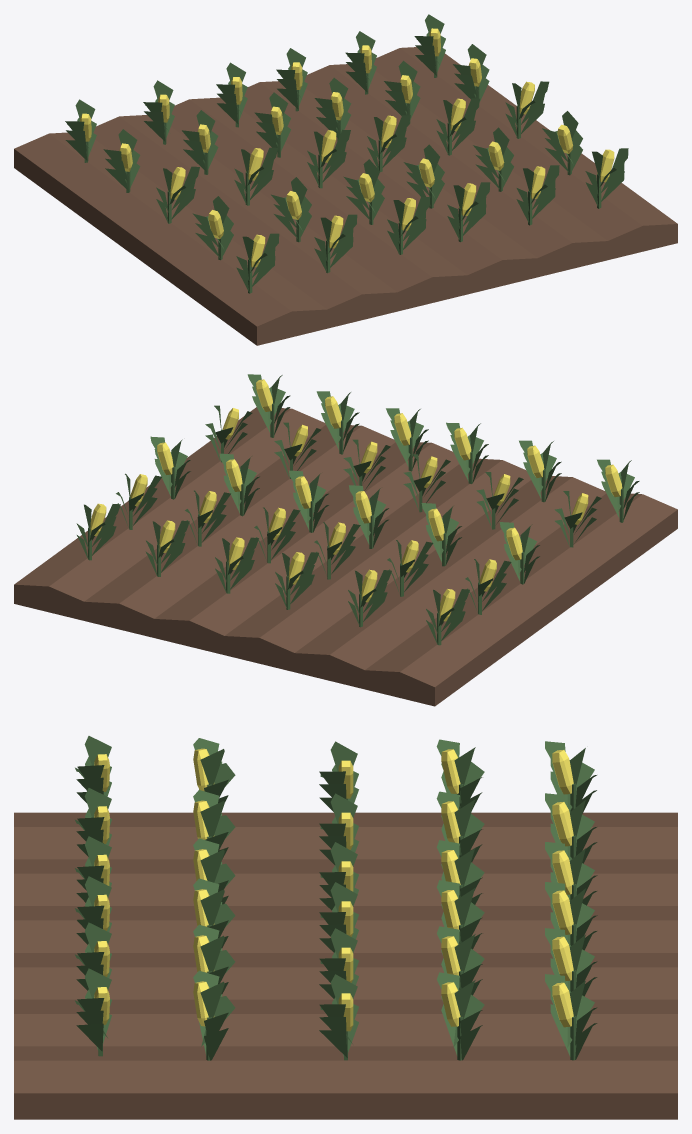
The model's file is corn-farm.obj.
3 views of the same model, one above another, from view 1: azimuth 30°, elevation 25°; view 2: azimuth 150°, elevation 25°; view 3: azimuth 270°, elevation 25° (orthographic). The views are drawn at different scales.
Parts seen in each view (by area): view 1: corn-farm; view 2: corn-farm; view 3: corn-farm.
Boxes of the visible parts, box(x1,y1,x2,y2) form: corn-farm: box(14, 14, 677, 345); corn-farm: box(14, 374, 677, 706); corn-farm: box(14, 736, 677, 1119).
Size of the model in its own units: 1.96 by 0.3769 by 1.96.
